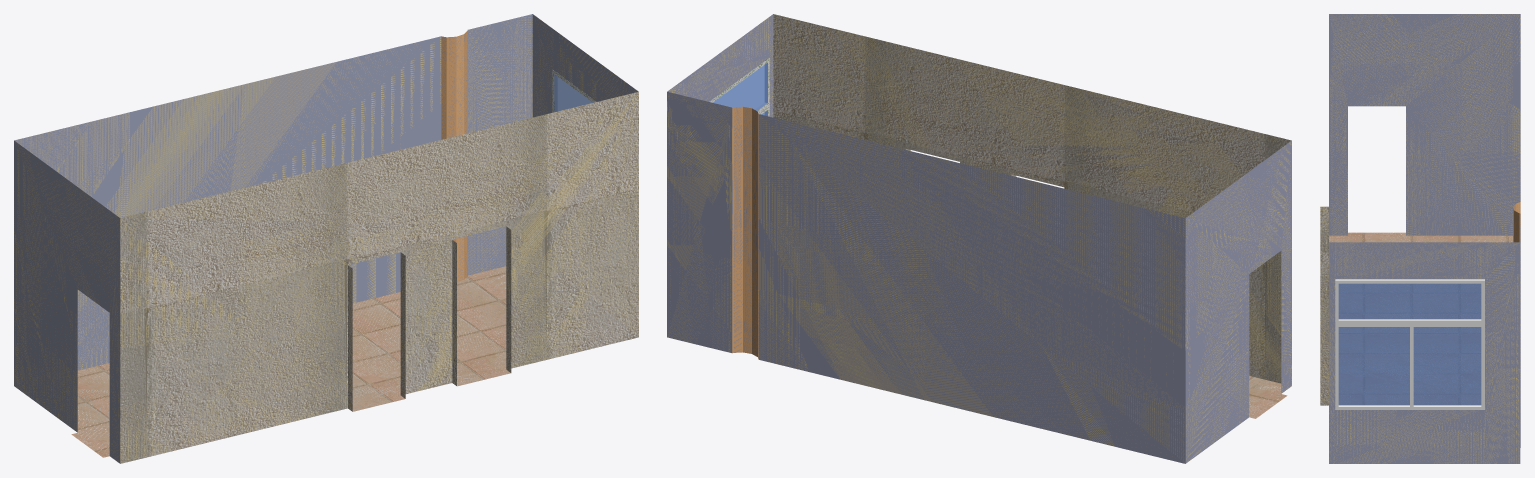
Rendered from DES17.obj.
3 views of the same model, side by side, from view 1: azimuth 30°, elevation 25°; view 2: azimuth 150°, elevation 25°; view 3: azimuth 270°, elevation 25° (orthographic). The views are drawn at different scales.
Visible parts, largest first — view 1: Mesh7 DES017 Model, Mesh1 ventana1_1 DES017 Model; view 2: Mesh7 DES017 Model, Mesh1 ventana1_1 DES017 Model; view 3: Mesh7 DES017 Model, Mesh1 ventana1_1 DES017 Model.
Boxes of the visible parts, bbox=[...] form: Mesh7 DES017 Model: bbox=[14, 14, 638, 463]; Mesh1 ventana1_1 DES017 Model: bbox=[552, 69, 596, 112]; Mesh7 DES017 Model: bbox=[667, 14, 1291, 463]; Mesh1 ventana1_1 DES017 Model: bbox=[709, 58, 769, 116]; Mesh7 DES017 Model: bbox=[1320, 14, 1520, 463]; Mesh1 ventana1_1 DES017 Model: bbox=[1335, 279, 1484, 409].
Bounding box in the file's own units: 8.1 × 3.6 × 2.95.
8 materials, 2 textured.
